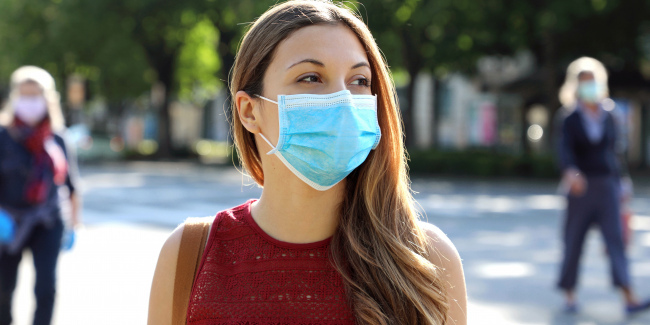with_mask: (273, 49, 377, 179)
